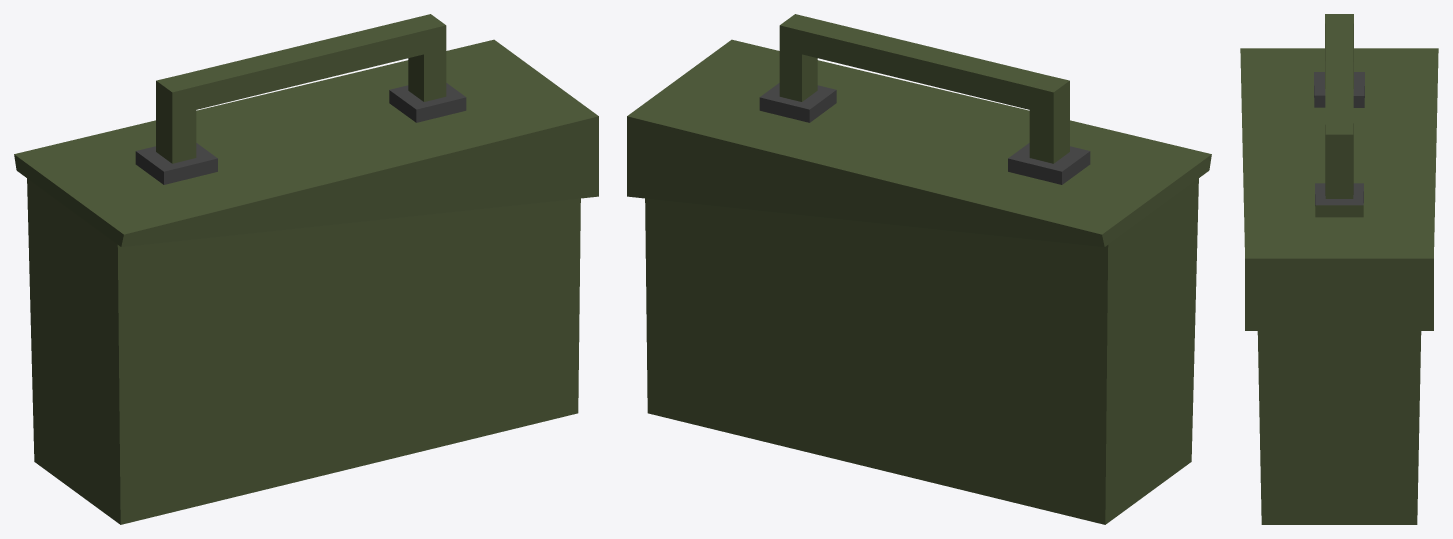
The model's file is Gun_Ammo.fbx.
3 renders of one model, left to right at view 1: azimuth 30°, elevation 25°; view 2: azimuth 150°, elevation 25°; view 3: azimuth 270°, elevation 25°, orthographic. The views are drawn at different scales.
Visible parts, largest first — view 1: Gun_Ammo; view 2: Gun_Ammo; view 3: Gun_Ammo.
Boxes of the visible parts, x1=… form: Gun_Ammo: x1=14, y1=14, x2=598, y2=524; Gun_Ammo: x1=627, y1=14, x2=1211, y2=524; Gun_Ammo: x1=1240, y1=14, x2=1438, y2=524.
Size of the model in its own units: 2.15 by 1.66 by 0.858.
